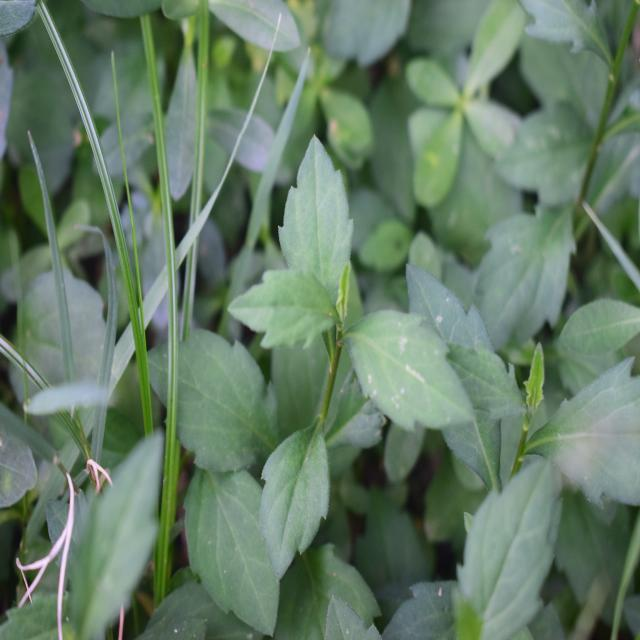Indian aster: (230, 133, 422, 540), (435, 249, 636, 602)
